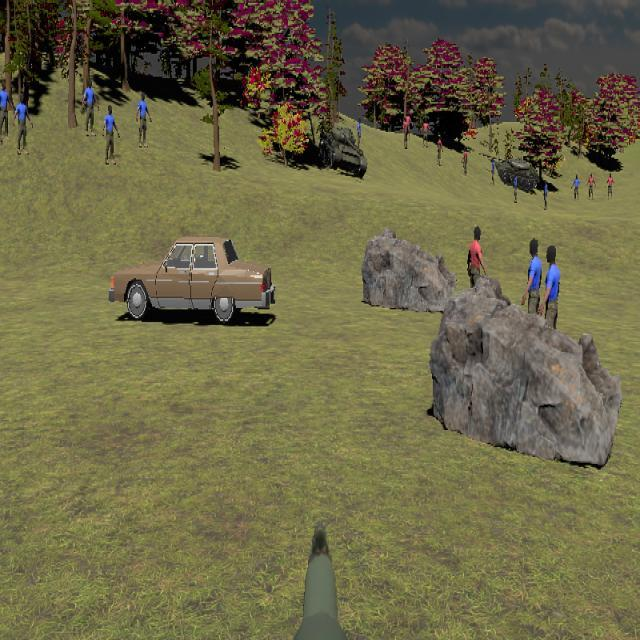Human: (541, 243, 561, 359), (521, 239, 542, 341), (466, 227, 488, 307), (14, 92, 33, 155), (81, 78, 99, 137), (103, 105, 120, 166), (0, 80, 14, 143), (137, 92, 151, 149)
Tank: (479, 152, 542, 191), (320, 127, 367, 179)
car: (109, 236, 277, 325)
